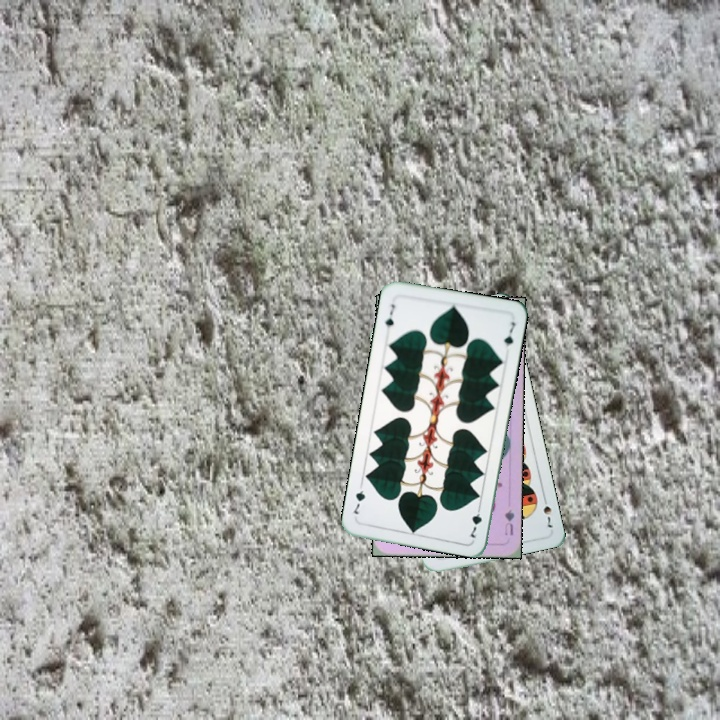G7: (466, 501, 484, 541), (381, 300, 398, 335)
GU: (500, 505, 517, 537)
S7: (539, 491, 556, 530)
